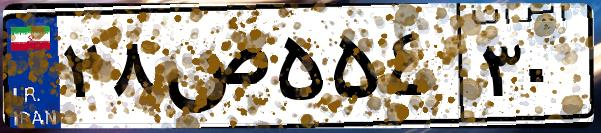0: (525, 38, 570, 115)
2: (57, 26, 110, 100)
3: (475, 38, 525, 113)
4: (385, 28, 445, 110)
5: (270, 28, 330, 110), (330, 28, 385, 110)
8: (110, 28, 158, 98)
ص: (158, 20, 270, 120)
